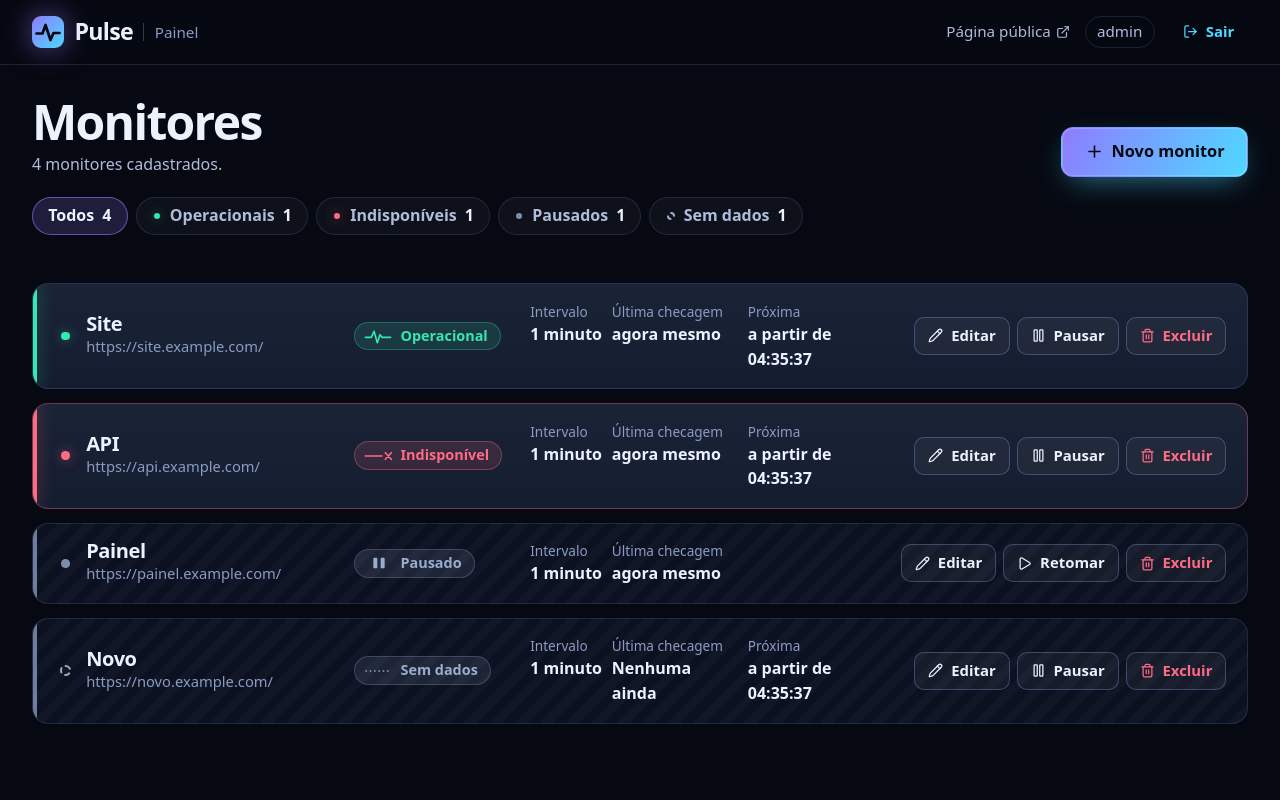
cadastro e edição › cadastra enviando nome, URL e intervalo com cookie e X-CSRF-Token; depois recarrega a lista
Expected: the element "Site" is shown, [32,283,1248,389]
Click the button "Novo monitor" at coordinates (1155, 152), box [1061,127,1248,176]
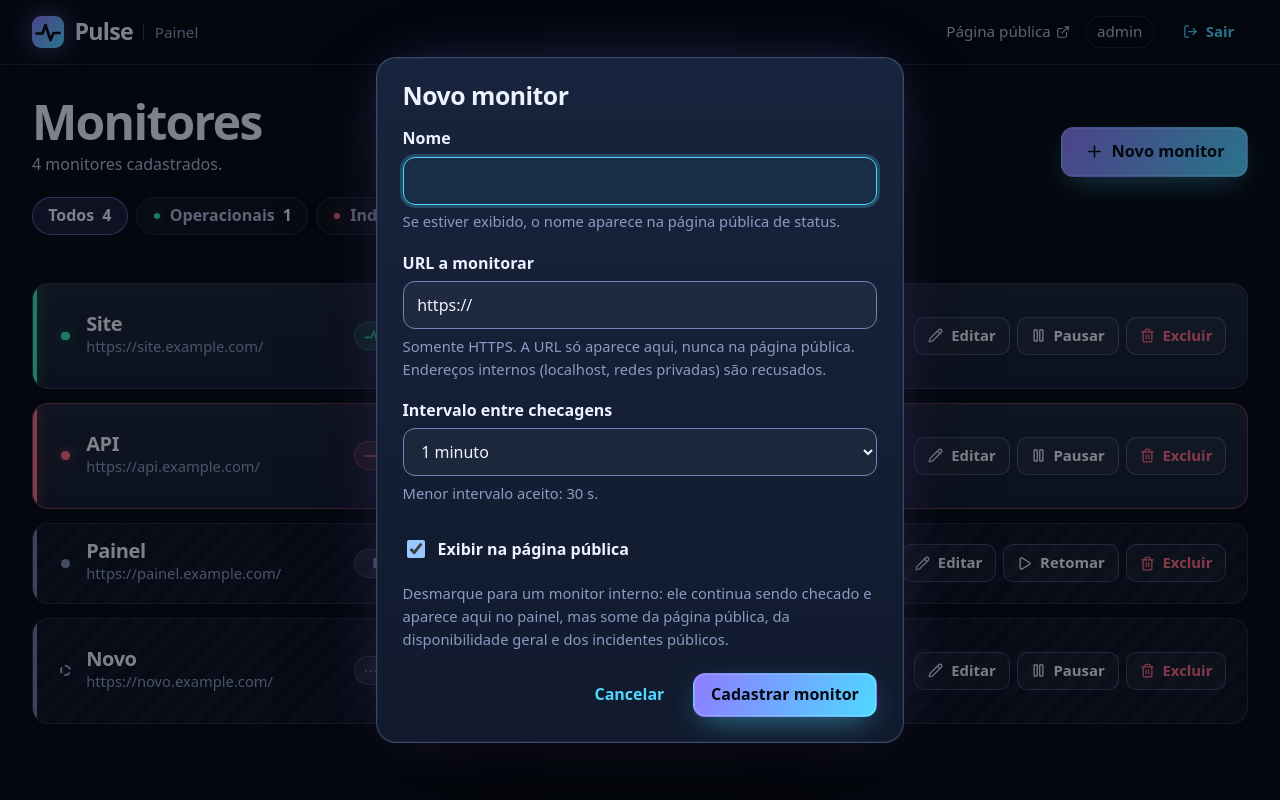
Type "Documentação" into the field labelled "Nome" at coordinates (640, 181), box [403,157,877,205]
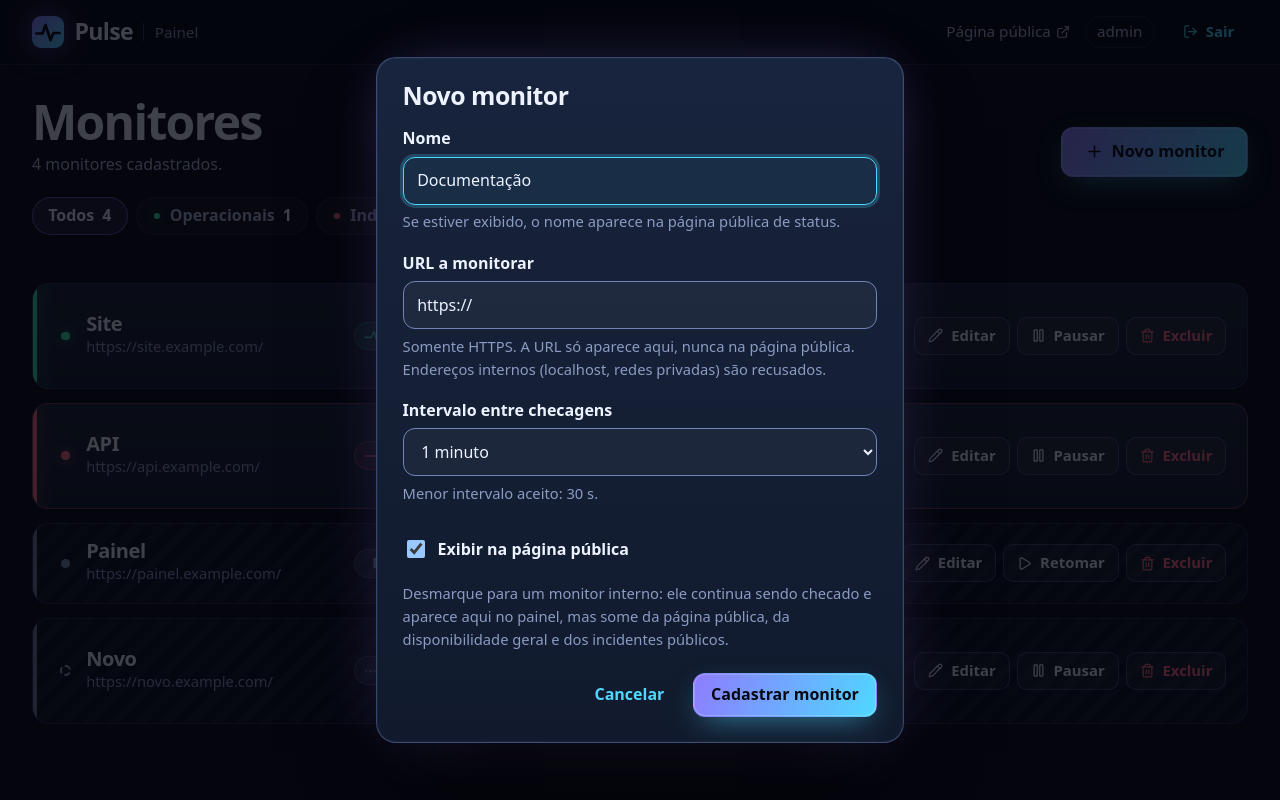
Replace the text in the field labelled "URL a monitorar" with "https://docs.example.com/status" at coordinates (640, 305), box [403,281,877,329]
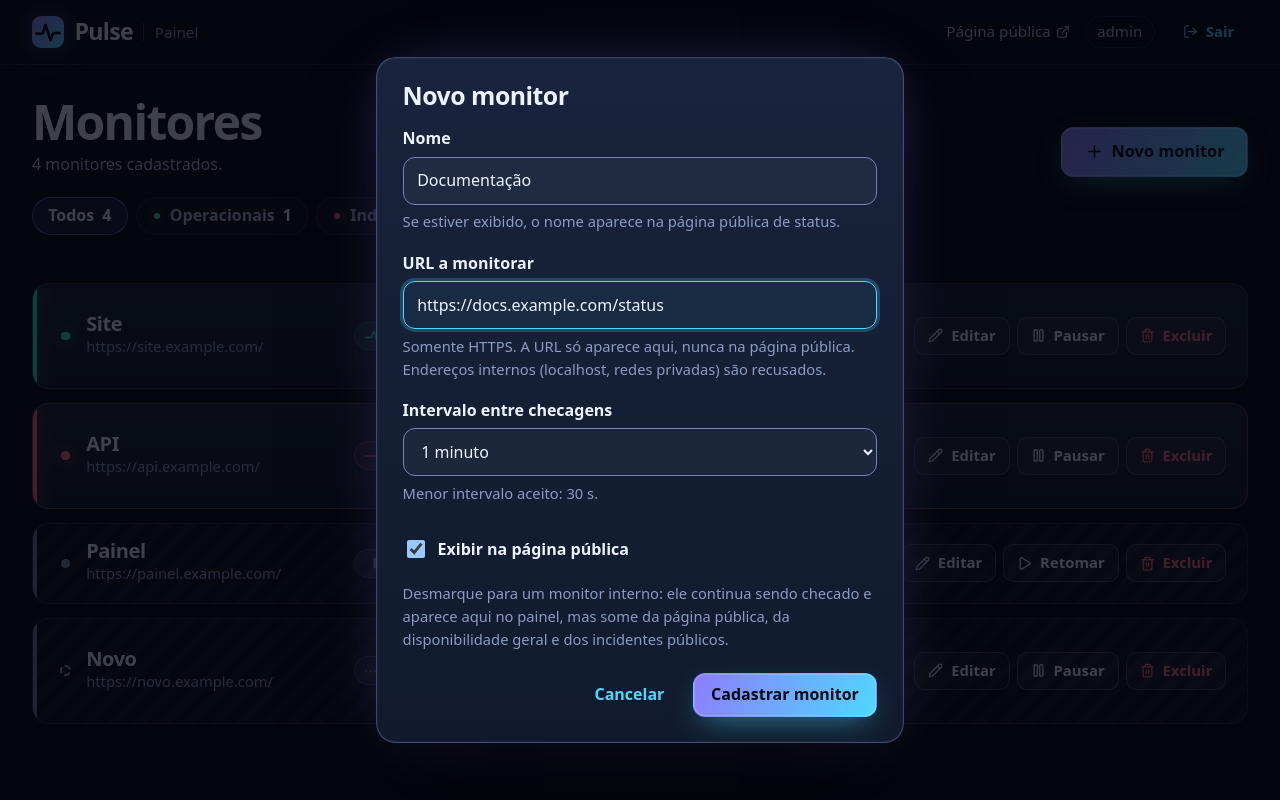
Select "5 minutos" in the dropdown labelled "Intervalo entre checagens" at coordinates (640, 452), box [403,428,877,476]
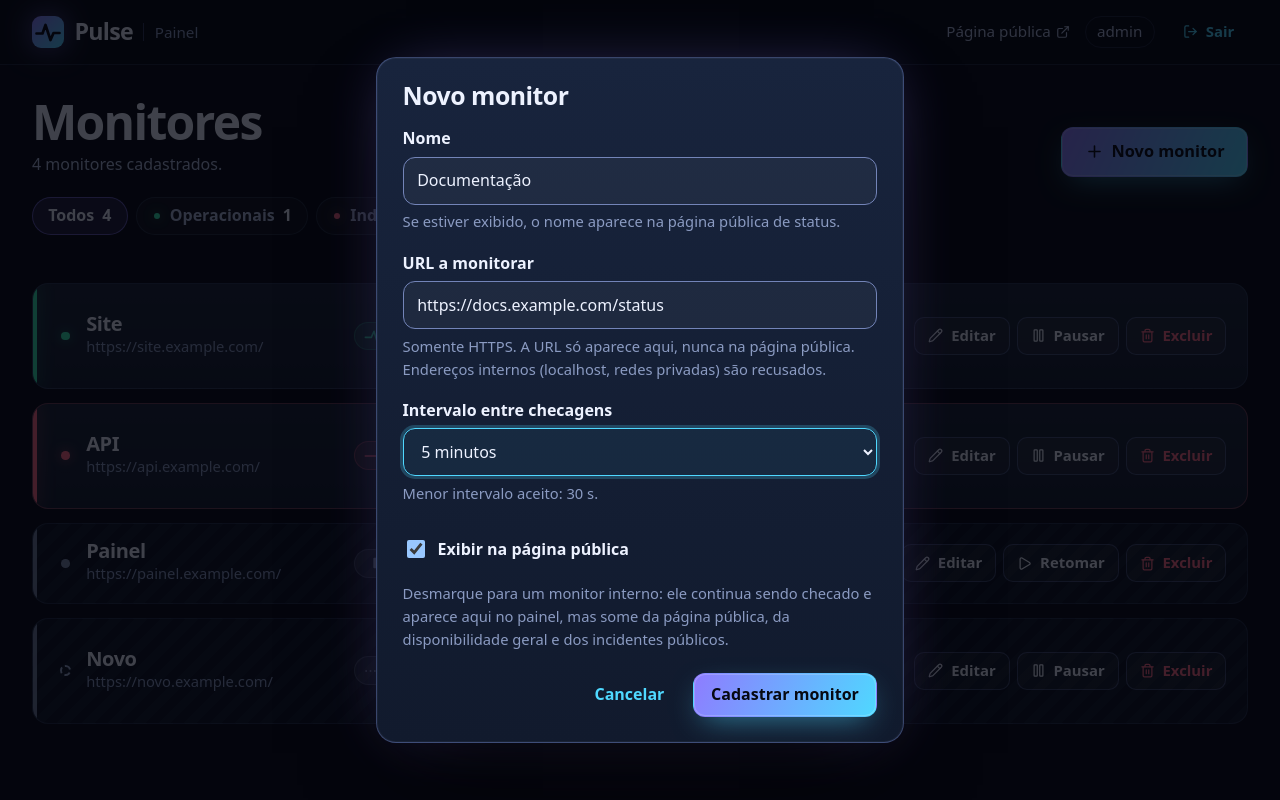
Click the button "Cadastrar monitor" at coordinates (785, 695), box [692,673,877,717]
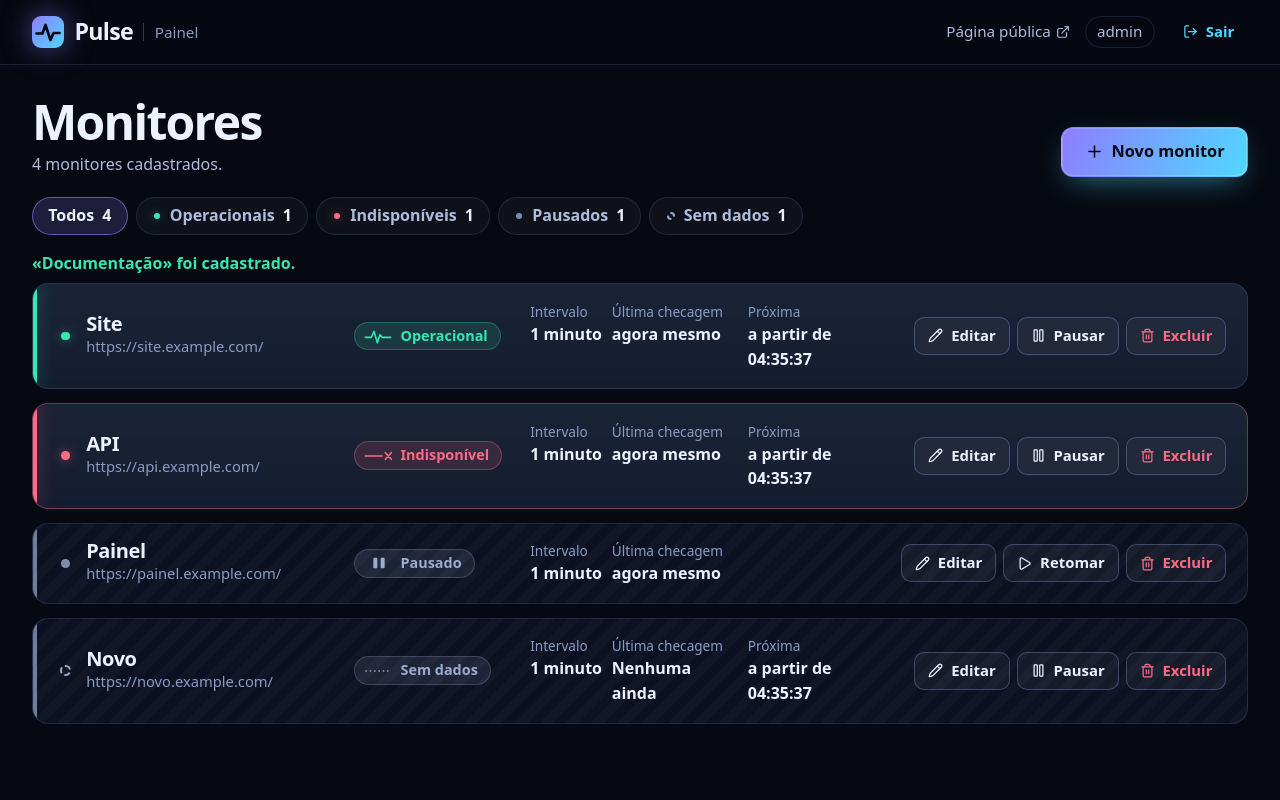
Expected: the text "«Documentação» foi cadastrado." is shown, [32,252,295,274]
Expected: the dialog is gone
